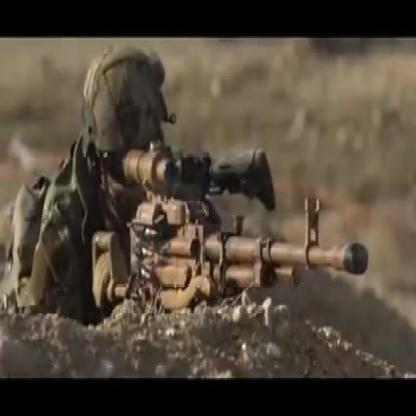Gun: (69, 140, 367, 330)
